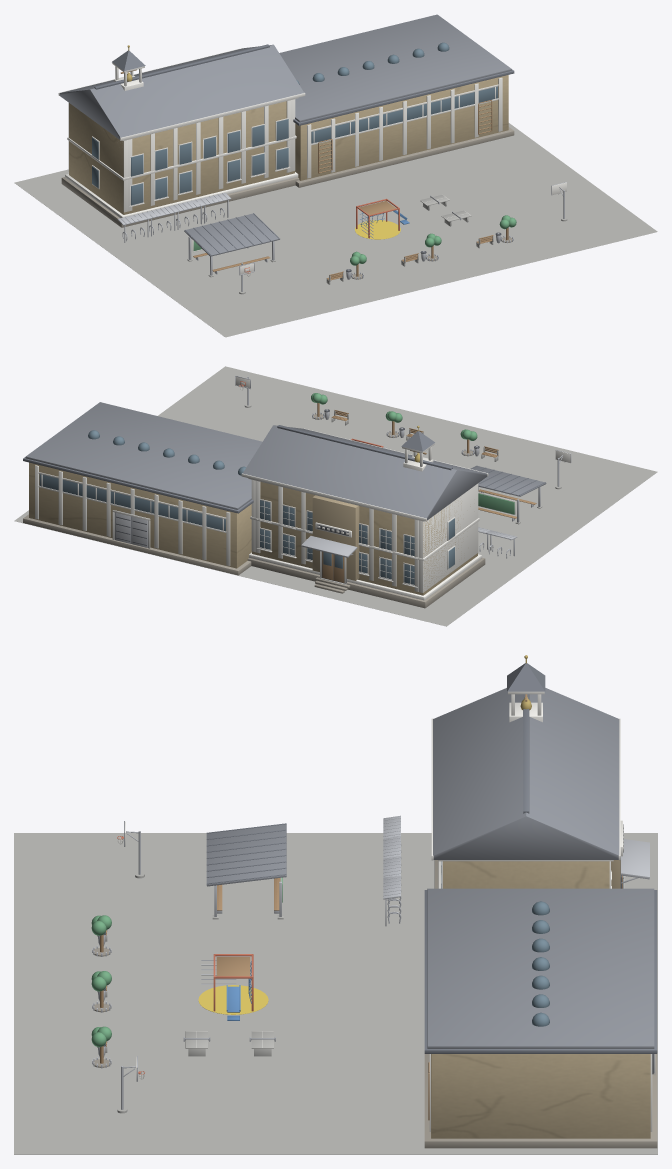
Rendered from th42_schulhof.glb.
3 views of the same model, one above another, from view 1: azimuth 30°, elevation 25°; view 2: azimuth 150°, elevation 25°; view 3: azimuth 270°, elevation 25° (orthographic). The views are drawn at different scales.
Parts seen in each view (by area): view 1: Cube, Cube.354, Satteldach, Cube.003, Cube.306, Cube.382, Cube.325, Cube.305, Cube.001, Cube.002, Cube.353, Cube.022 (+4 smaller); view 2: Cube, Cube.354, Satteldach, Cube.306, Cube.003, Cube.020, Cube.270, Cube.339, Cube.001, Cube.305, Cube.382, Cube.002 (+10 smaller); view 3: Cube, Cube.354, Satteldach, Cube.306, Cube.003, Cube.382, Cube.305, Cube.353, Cylinder.019, Cube.292, Cone, Cube.297.
Part boxes in pixels (x1,y1,x2,y2): Cube: [14, 123, 657, 337]; Cube.354: [279, 14, 511, 122]; Satteldach: [59, 44, 304, 139]; Cube.003: [69, 101, 294, 214]; Cube.306: [295, 75, 508, 180]; Cube.382: [184, 213, 279, 256]; Cube.325: [311, 86, 497, 143]; Cube.305: [295, 127, 514, 187]; Cube.001: [61, 177, 299, 227]; Cube.002: [65, 172, 298, 217]; Cube.353: [293, 69, 514, 125]; Cube.022: [67, 135, 296, 180]; Cube: [14, 366, 657, 626]; Cube.354: [25, 402, 262, 509]; Satteldach: [243, 425, 487, 520]; Cube.306: [29, 462, 251, 568]; Cube.003: [252, 482, 477, 595]; Cube.020: [419, 483, 478, 592]; Cube.270: [312, 495, 359, 580]; Cube.339: [39, 474, 225, 531]; Cube.001: [247, 557, 485, 608]; Cube.305: [23, 514, 251, 575]; Cube.382: [471, 466, 546, 496]; Cube.002: [249, 552, 481, 600]; Cube: [14, 833, 657, 1154]; Cube.354: [427, 888, 654, 1048]; Satteldach: [433, 688, 619, 859]; Cube.306: [431, 1054, 650, 1138]; Cube.003: [443, 861, 609, 888]; Cube.382: [206, 824, 286, 886]; Cube.305: [424, 1054, 657, 1148]; Cube.353: [424, 890, 657, 1053]; Cylinder.019: [198, 985, 268, 1014]; Cube.292: [620, 839, 649, 879]; Cone: [507, 663, 545, 691]; Cube.297: [523, 694, 529, 813].
Bounding box in the file's own units: 52 × 17.42 × 44.
71 materials, 2 textured.
